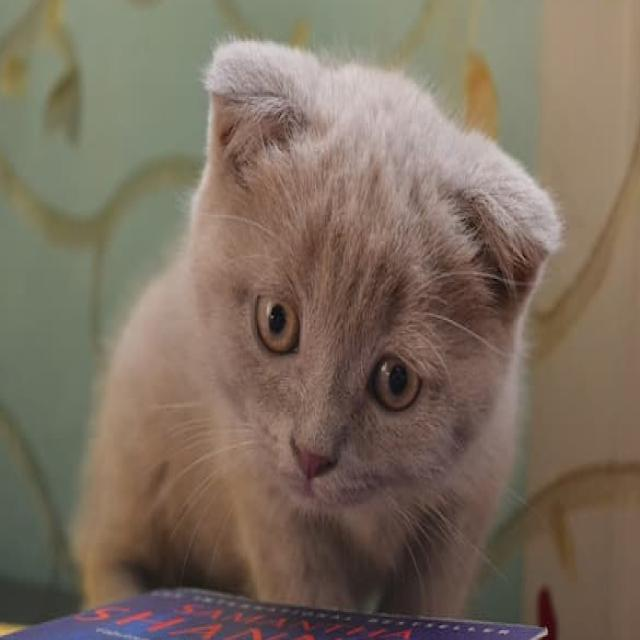Scottish Fold: (68, 32, 567, 624)
